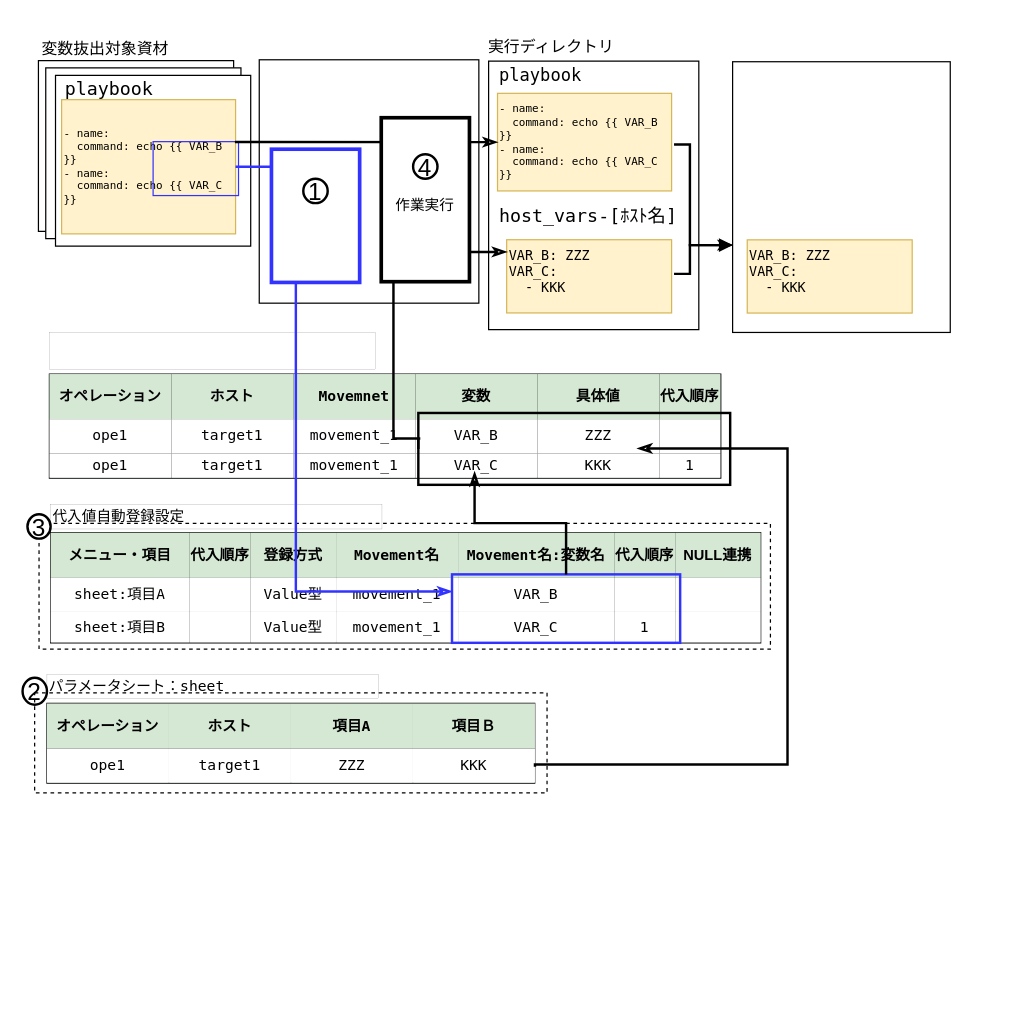
Some shapes in this 1030 by 1016 pixel diagram are drawn without their labels. The box of each missing label's shape, as (x1, y1, x2, y2) in pixels:
ansible: (731, 61, 950, 332)
ITA: (258, 59, 479, 303)
代入値管理: (49, 332, 375, 369)
変数抜出: (269, 147, 361, 284)
